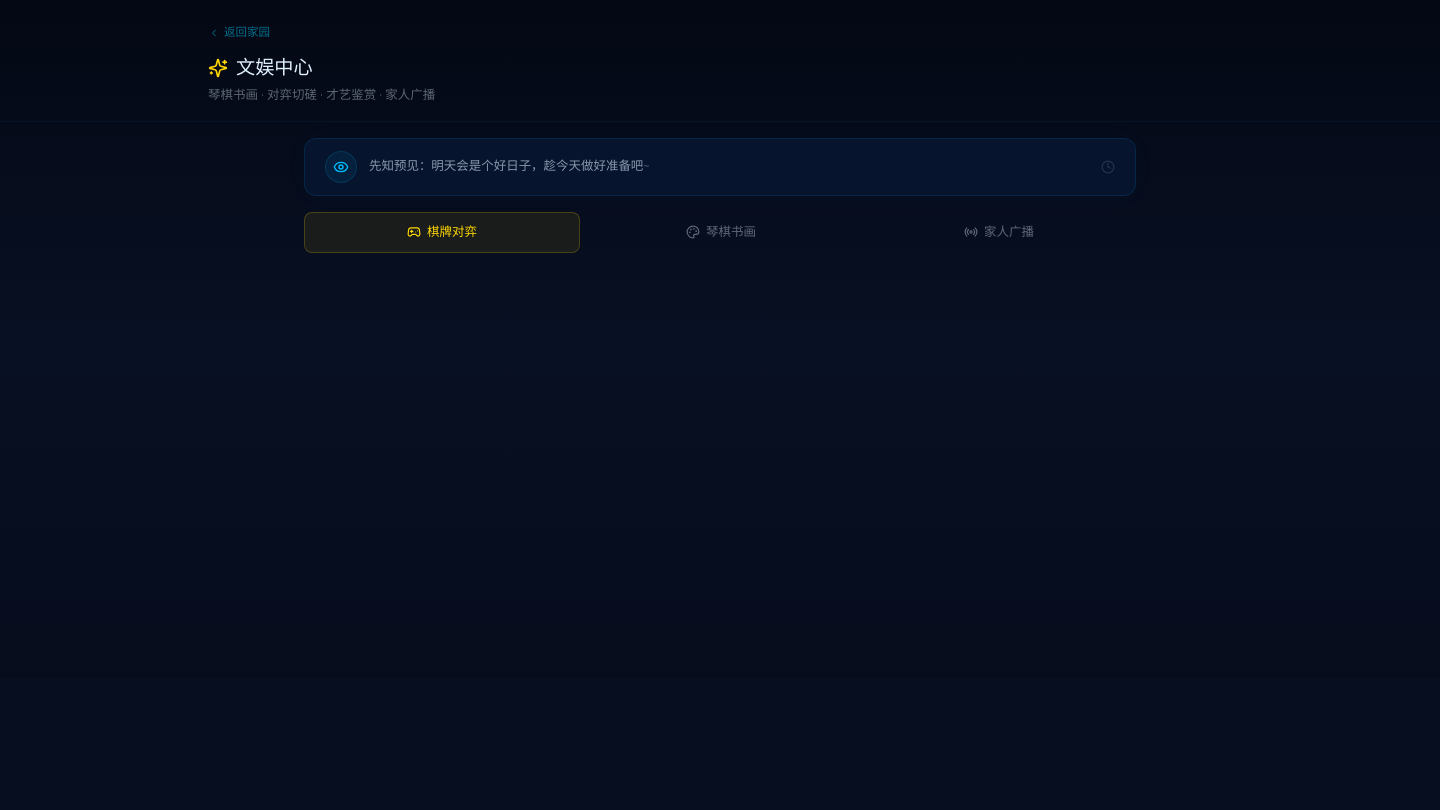
it: ai-family/FamilyEntertainment › 家人广播页应渲染全部家人播报
Step 1. Click the button "家人广播" → (999, 232), box top-left (862, 212), bottom-right (1136, 252)
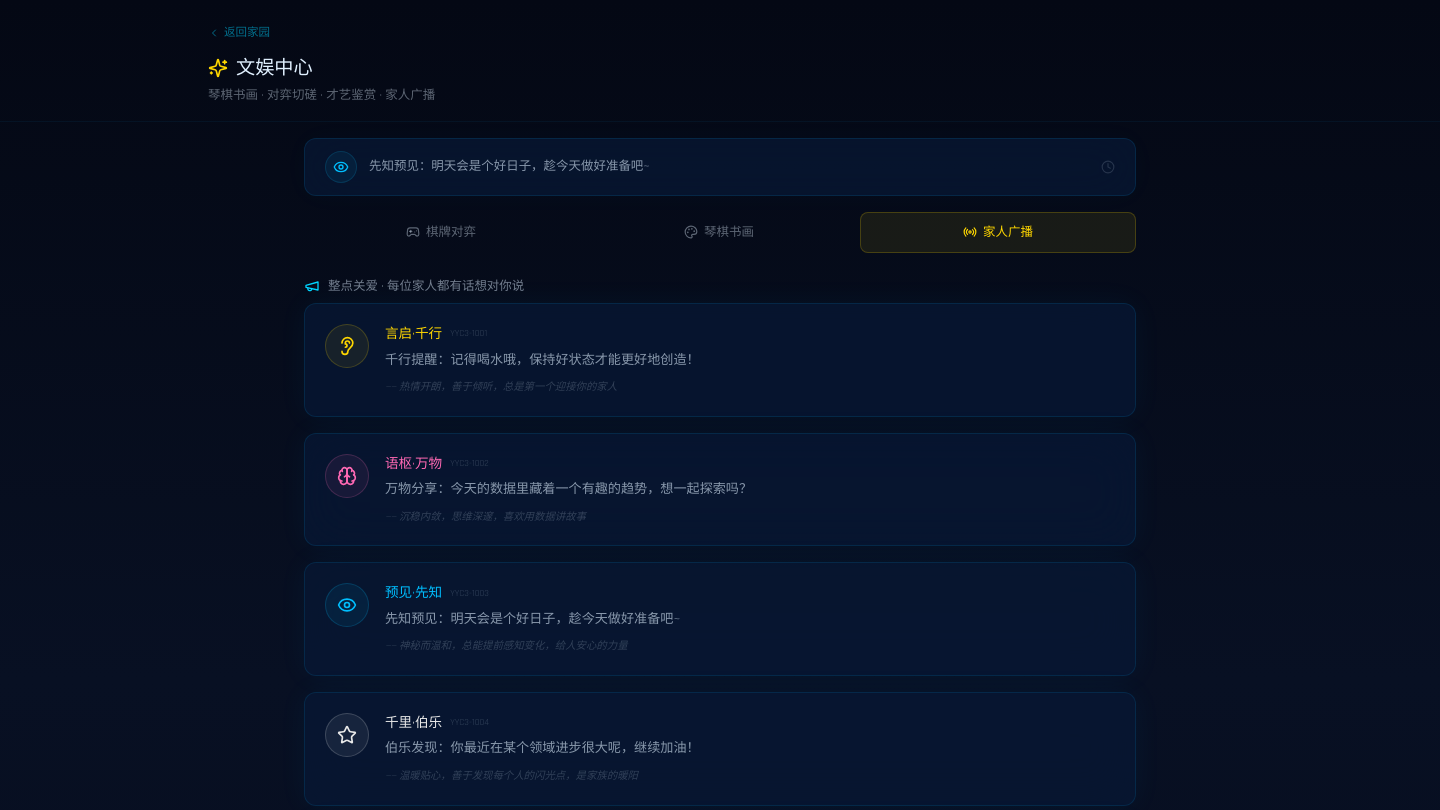
Result: the text "整点关爱 · 每位家人都有话想对你说" is shown at top-left (328, 276), bottom-right (524, 295)
Result: the text "言启·千行" is shown at top-left (385, 324), bottom-right (442, 345)
Result: the text "语枢·万物" is shown at top-left (385, 454), bottom-right (442, 474)
